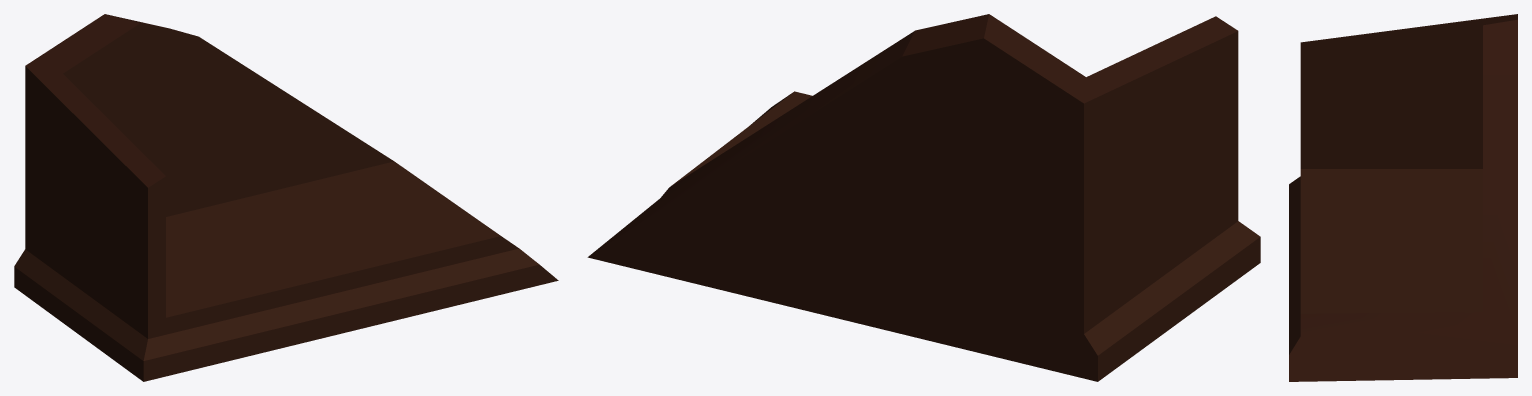
The model's file is Placard_Part_3.fbx.
3 renders of one model, left to right at view 1: azimuth 30°, elevation 25°; view 2: azimuth 150°, elevation 25°; view 3: azimuth 270°, elevation 25°, orthographic. The views are drawn at different scales.
Visible parts, largest first — view 1: Placard_Part_3; view 2: Placard_Part_3; view 3: Placard_Part_3.
Boxes of the visible parts, box(x1,y1,x2,y2) form: Placard_Part_3: box(14, 14, 558, 381); Placard_Part_3: box(587, 14, 1260, 381); Placard_Part_3: box(1289, 14, 1517, 381).
Size of the model in its own units: 165 by 95.93 by 89.18.
